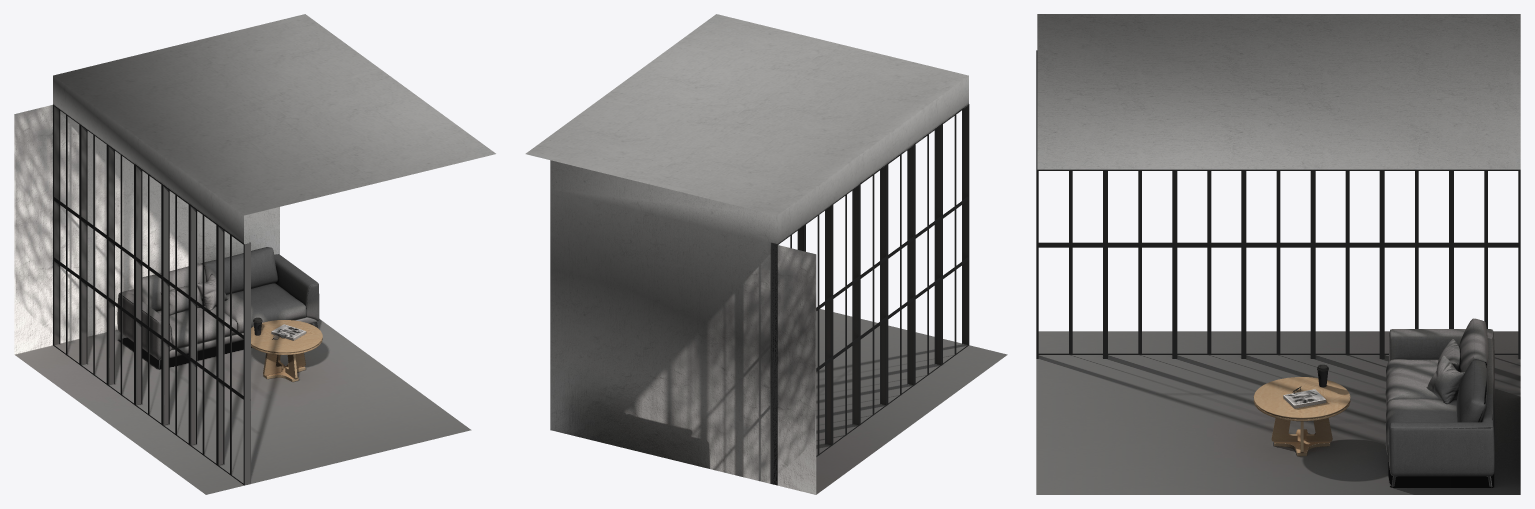
The picture shows the model from 3 angles, left to right: view 1: azimuth 30°, elevation 25°; view 2: azimuth 150°, elevation 25°; view 3: azimuth 270°, elevation 25°; orthographic projection. The views are drawn at different scales.
Visible parts, largest first — view 1: qian di_low_16, chuanghu_low_1, zuozi_low_15, shafa_low.006_10, shafa_low.001_5, shafa_low.004_8, shafa_low.003_7, shafa_low.005_9, shafa_low.002_6; view 2: qian di_low_16, chuanghu_low_1; view 3: qian di_low_16, chuanghu_low_1, shafa_low.004_8, zuozi_low_15, shafa_low.003_7, shafa_low.005_9, shafa_low.006_10, shafa_low.001_5, shafa_low.002_6, zhento_low.001_14, shu_low_12.
Boxes of the visible parts, x1,y1,x2,y2 form: qian di_low_16: [14, 14, 495, 494]; chuanghu_low_1: [53, 104, 250, 485]; zuozi_low_15: [251, 320, 322, 381]; shafa_low.006_10: [215, 283, 306, 333]; shafa_low.001_5: [200, 247, 278, 294]; shafa_low.004_8: [117, 284, 319, 359]; shafa_low.003_7: [119, 254, 318, 348]; shafa_low.005_9: [156, 300, 237, 349]; shafa_low.002_6: [142, 263, 206, 311]; qian di_low_16: [525, 14, 1007, 494]; chuanghu_low_1: [771, 104, 969, 485]; qian di_low_16: [1036, 14, 1520, 494]; chuanghu_low_1: [1036, 50, 1520, 358]; shafa_low.004_8: [1389, 330, 1494, 475]; zuozi_low_15: [1253, 377, 1350, 456]; shafa_low.003_7: [1390, 329, 1492, 428]; shafa_low.005_9: [1385, 359, 1458, 408]; shafa_low.006_10: [1385, 399, 1457, 456]; shafa_low.001_5: [1456, 359, 1488, 422]; shafa_low.002_6: [1458, 318, 1488, 372]; zhento_low.001_14: [1427, 355, 1464, 403]; shu_low_12: [1283, 389, 1326, 408].
Bounding box in the file's own units: 5.45 × 4.83 × 6.21.
Materials: 12 (9 with a texture image).
